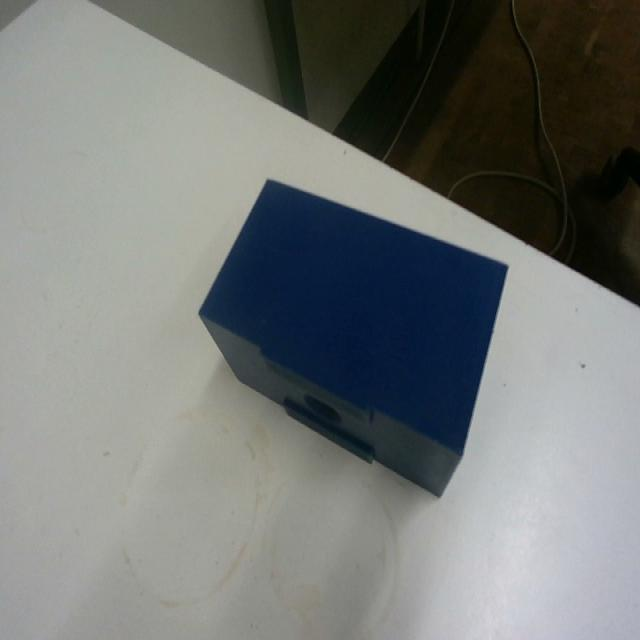Blue Cuboid: (196, 173, 510, 499)
